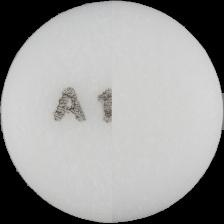10370-102: (0, 0, 224, 224)
